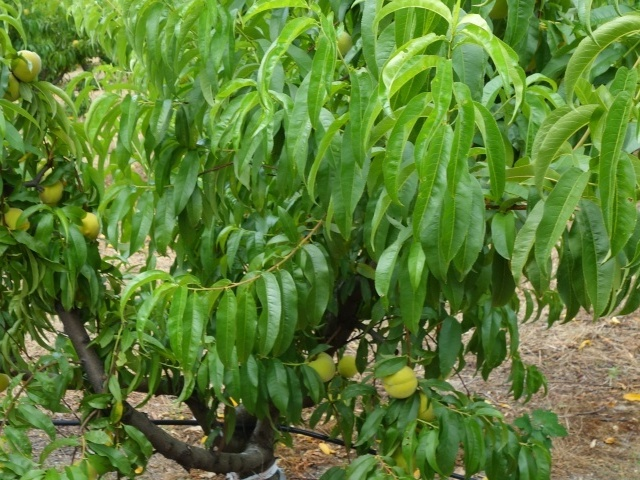peach: (377, 361, 420, 402), (7, 44, 44, 85), (302, 346, 338, 385), (72, 206, 105, 242), (35, 175, 67, 206), (414, 389, 441, 422), (333, 353, 361, 381)
